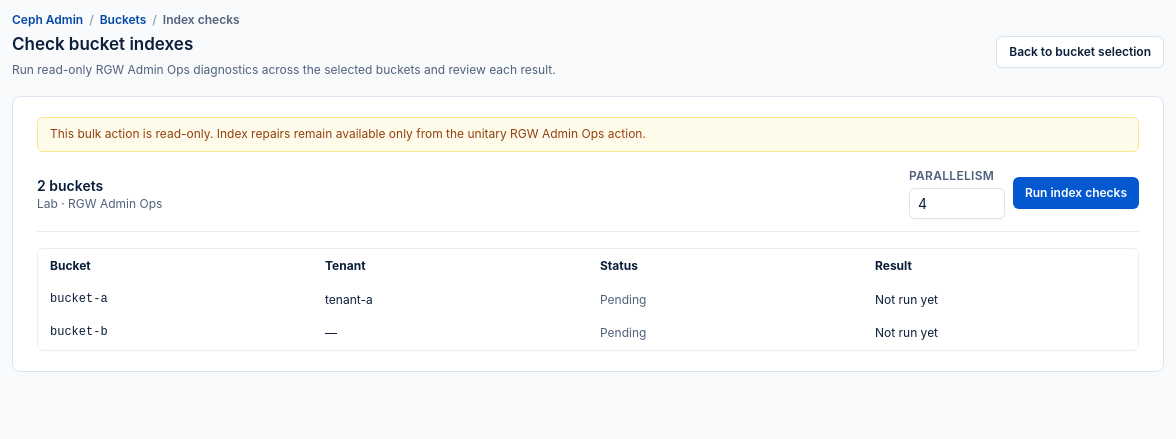
it: CephAdminBucketIndexCheckPage › runs read-only tenant-aware index checks and renders partial failures
Expected: the text "bulk action is read-only" is shown, left=50, top=126, right=646, bottom=141
Click the button "Run index checks" at (1076, 193), box left=1013, top=177, right=1139, bottom=209
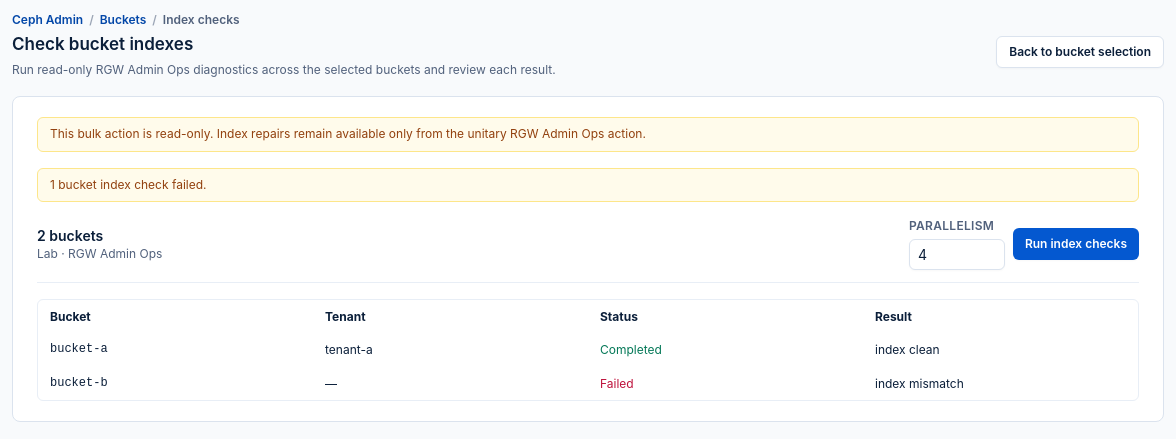
Now the text "index mismatch" is shown, box left=863, top=367, right=1138, bottom=400
Now the text "1 bucket index check failed." is shown, box left=37, top=168, right=1139, bottom=202
